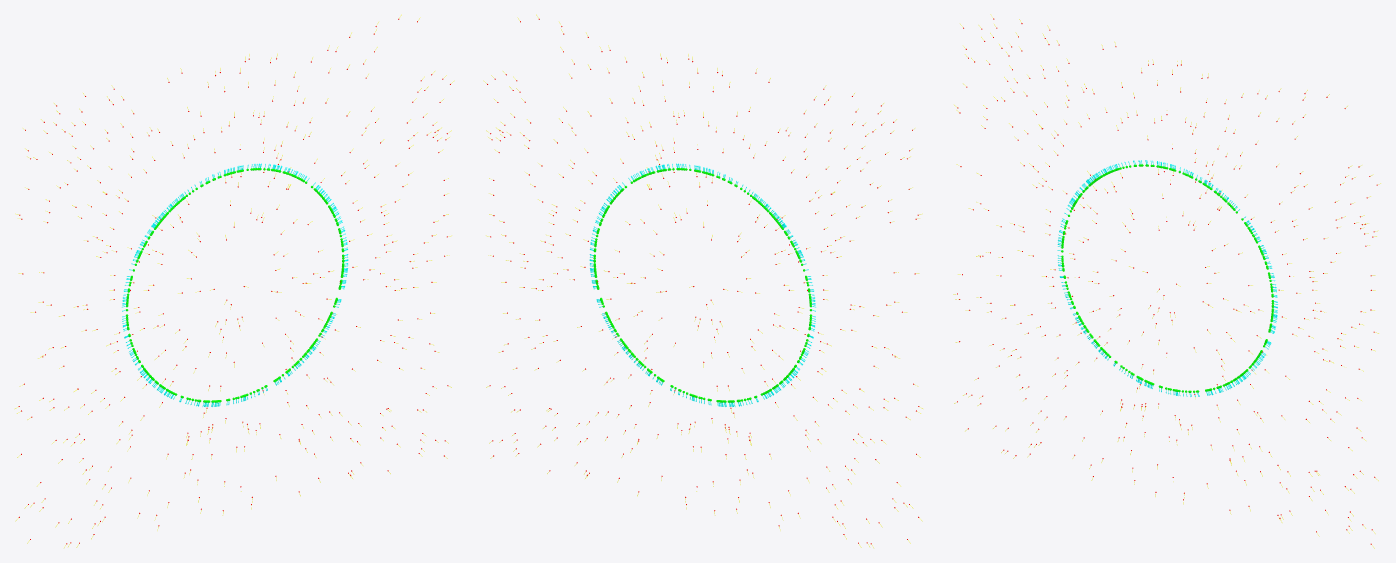
The model's file is surface_points sphere-2D.gltf.
3 views of the same model, side by side, from view 1: azimuth 30°, elevation 25°; view 2: azimuth 150°, elevation 25°; view 3: azimuth 330°, elevation 25° (orthographic). The views are drawn at different scales.
Bounding box in the file's own units: 4.08 × 4.06 × 0.02.
